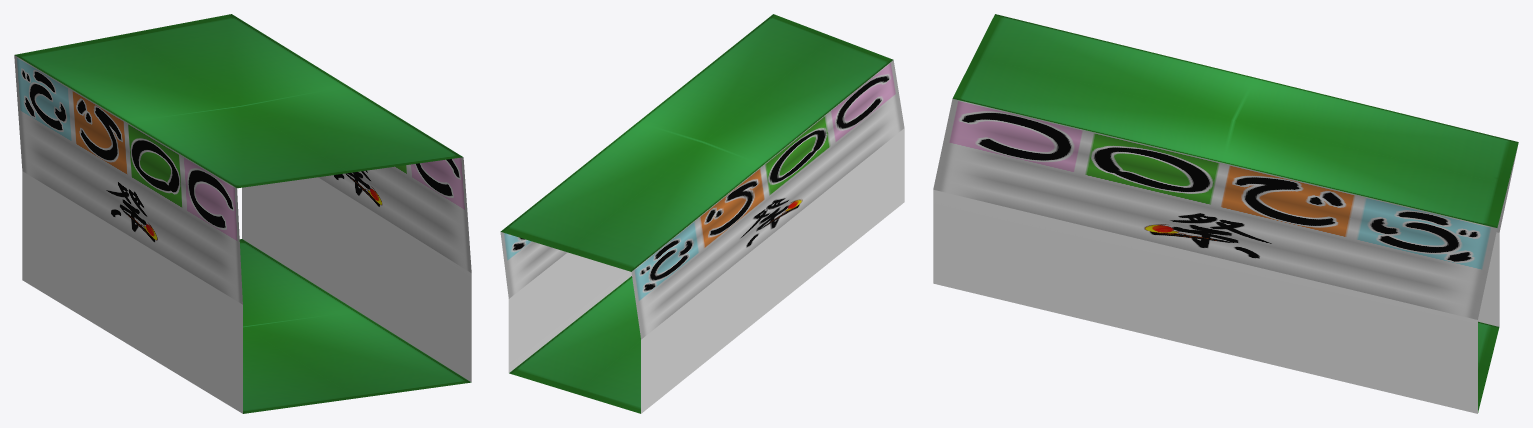
3 views of the same model, side by side, from view 1: azimuth 30°, elevation 25°; view 2: azimuth 150°, elevation 25°; view 3: azimuth 270°, elevation 25° (orthographic). The views are drawn at different scales.
Parts seen in each view (by area): view 1: polySurface105; view 2: polySurface105; view 3: polySurface105.
Part boxes in pixels (left/top/right/bottom): polySurface105: left=14, top=14, right=471, bottom=413; polySurface105: left=500, top=14, right=904, bottom=413; polySurface105: left=933, top=14, right=1518, bottom=413.
Size of the model in its own units: 2.8 by 2.98 by 5.65.
